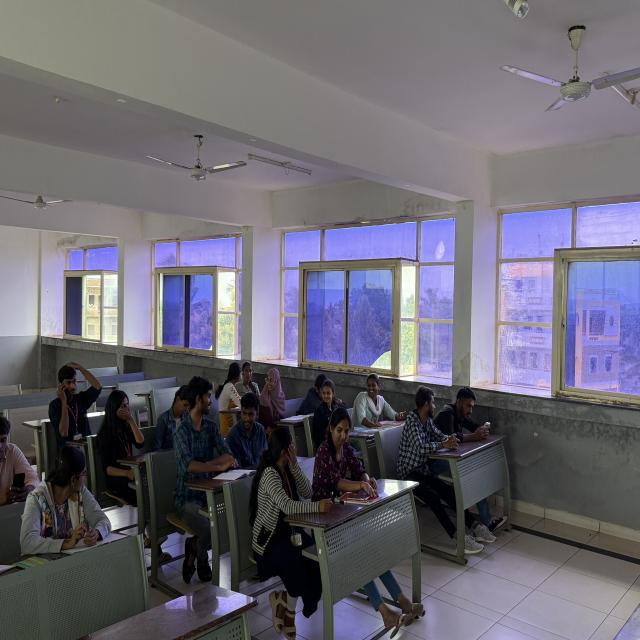Using Phone: (446, 372, 505, 462), (0, 406, 39, 540), (46, 353, 104, 435)
